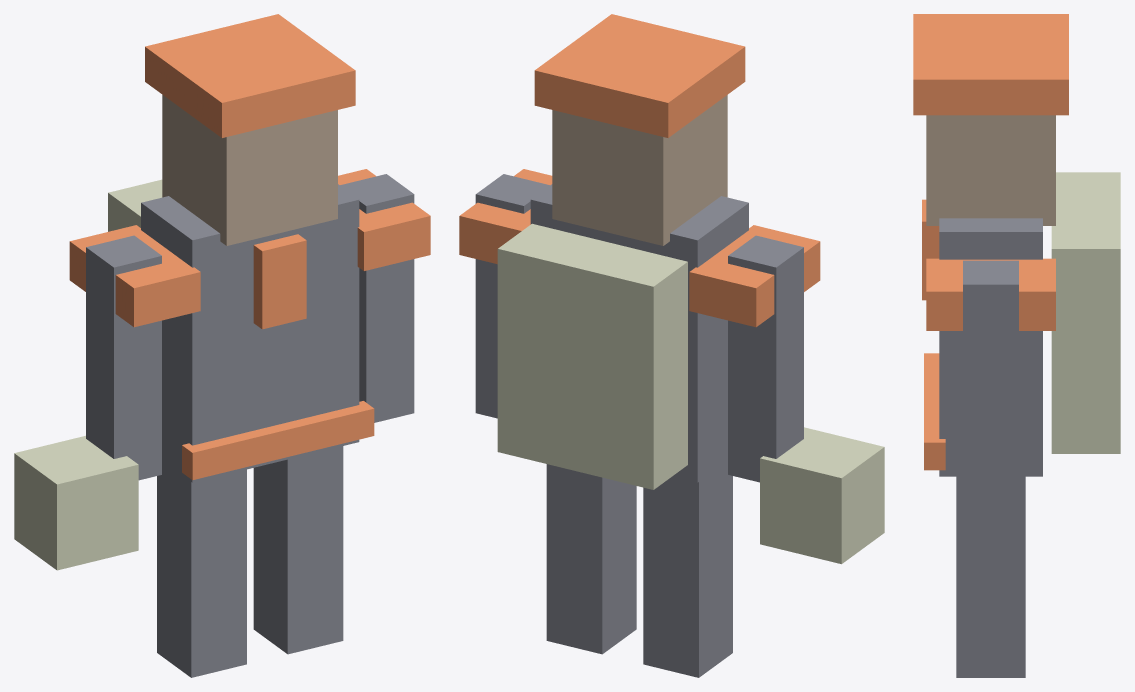
File: 04_kael_whispercoil_sentinel_under_cargo.glb
3 renders of one model, left to right at view 1: azimuth 30°, elevation 25°; view 2: azimuth 150°, elevation 25°; view 3: azimuth 270°, elevation 25°, orthographic.
Visible parts, largest first — view 1: Kael Whispercoil, Sentinel under Cargo; view 2: Kael Whispercoil, Sentinel under Cargo; view 3: Kael Whispercoil, Sentinel under Cargo.
Boxes of the visible parts, box(x1,y1,x2,y2) form: Kael Whispercoil, Sentinel under Cargo: box(14, 14, 430, 677); Kael Whispercoil, Sentinel under Cargo: box(459, 14, 884, 677); Kael Whispercoil, Sentinel under Cargo: box(913, 14, 1120, 677).
Size of the model in its own units: 0.9412 by 1.43 by 0.454.
